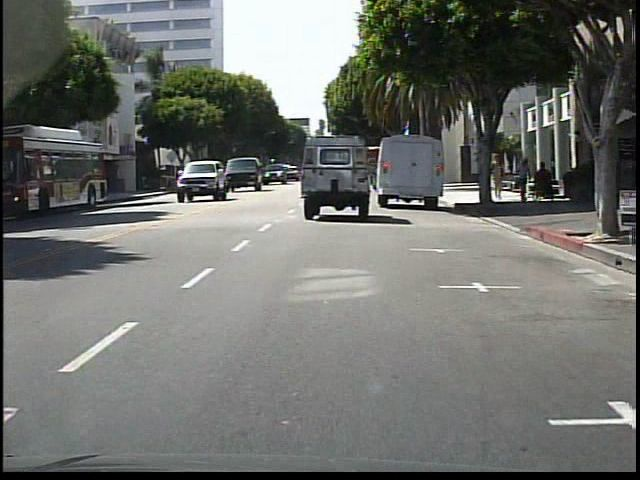person: (488, 155, 504, 204), (515, 160, 530, 202)
